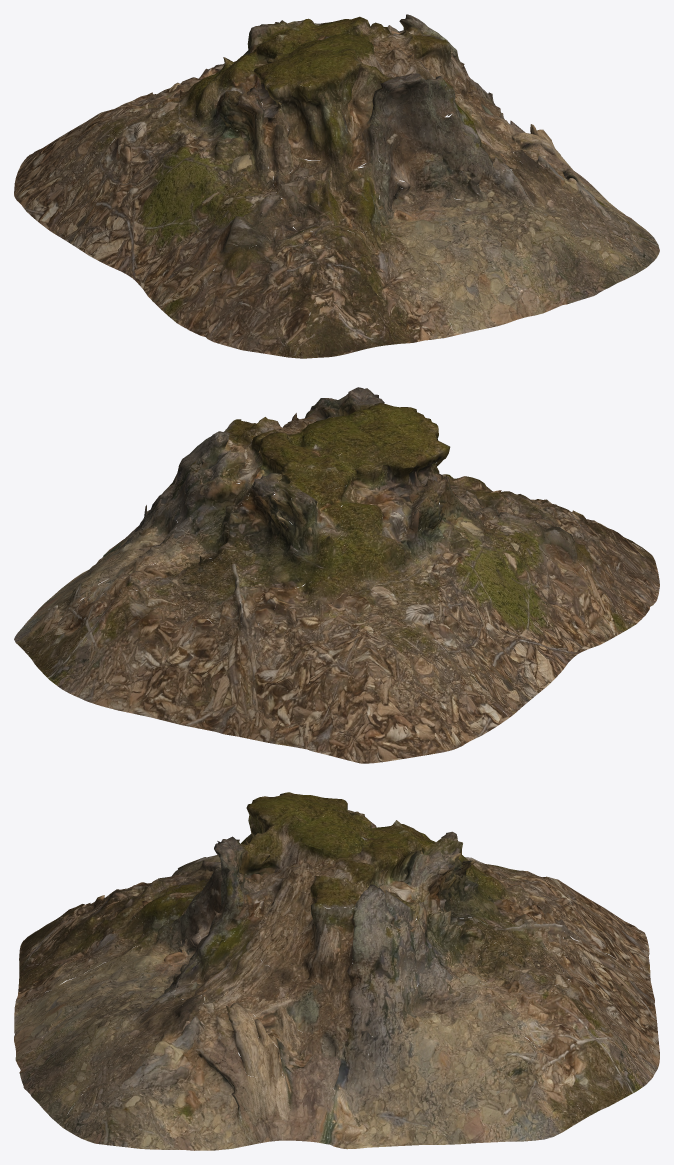
File: tree_stump_01.glb
The picture shows the model from 3 angles, top to bottom: view 1: azimuth 30°, elevation 25°; view 2: azimuth 150°, elevation 25°; view 3: azimuth 270°, elevation 25°; orthographic projection. The views are drawn at different scales.
Parts seen in each view (by area): view 1: tree_stump_01; view 2: tree_stump_01; view 3: tree_stump_01.
Boxes of the visible parts, x1,y1,x2,y2 form: tree_stump_01: (14,14,659,358); tree_stump_01: (14,387,659,763); tree_stump_01: (14,792,659,1150).
Bounding box in the file's own units: 1.43 × 0.5723 × 1.59.
1 material, 1 textured.
